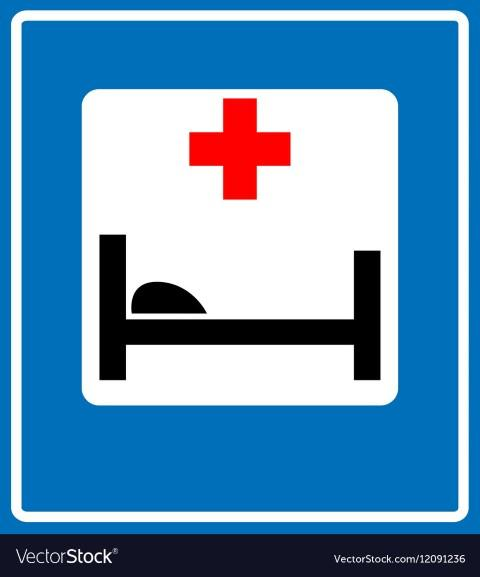Hospital: (65, 50, 423, 449)
